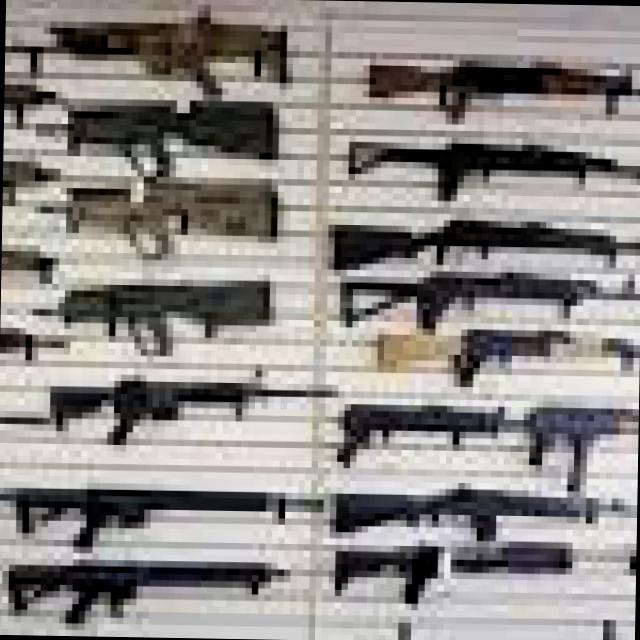long weapon: (31, 159, 300, 256), (35, 254, 296, 353)
